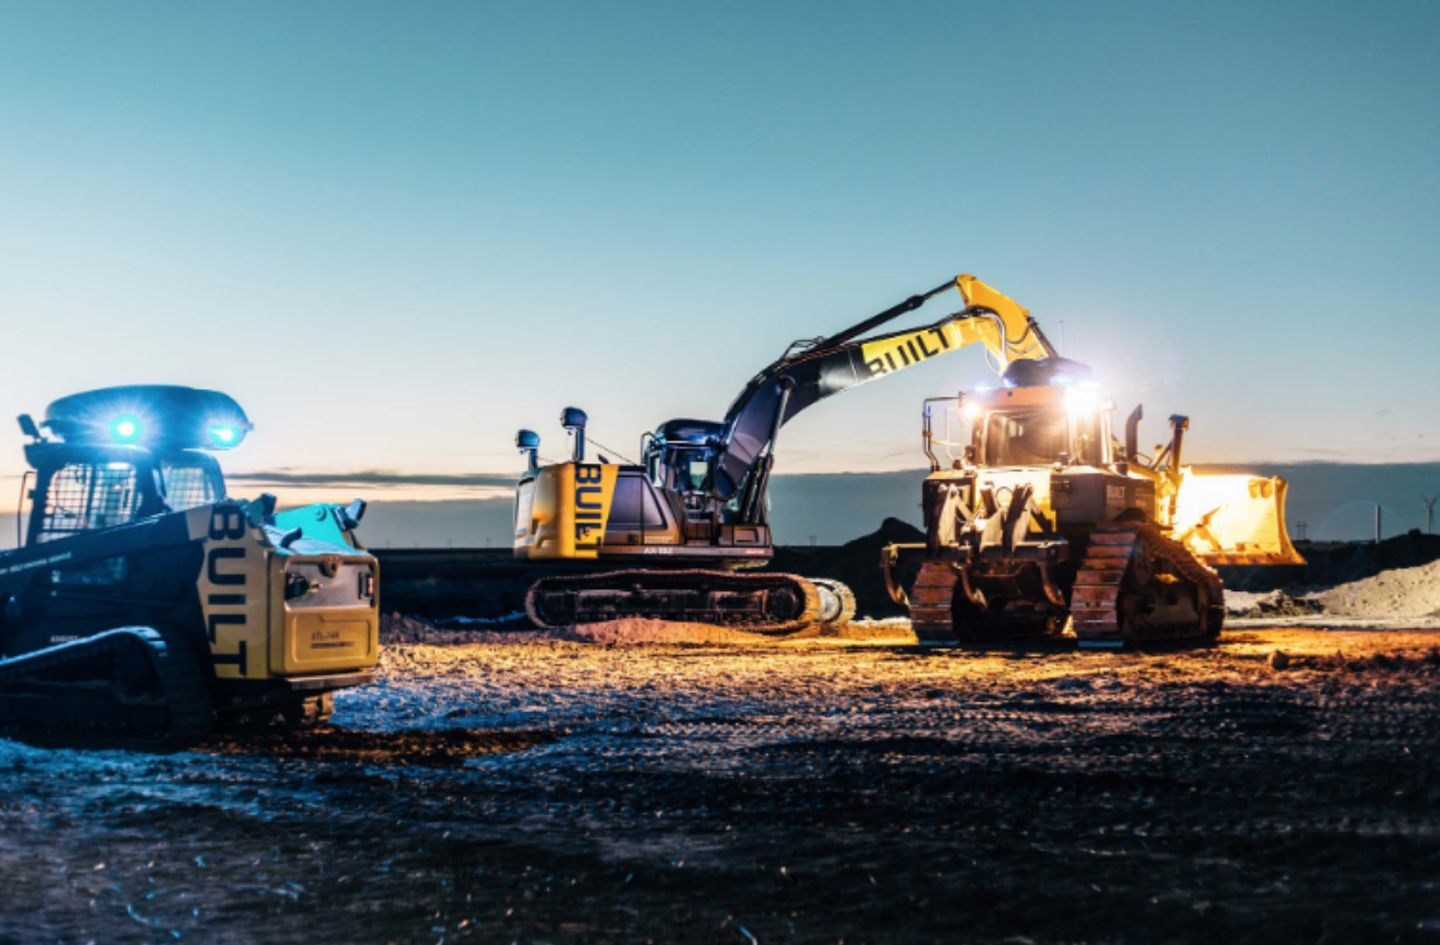excavator: (521, 263, 1114, 657)
